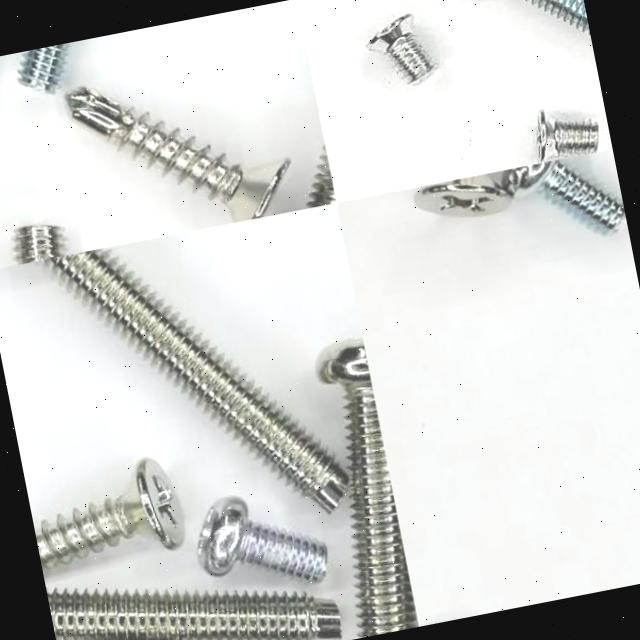Screw: (43, 250, 350, 513), (66, 87, 291, 223), (319, 345, 415, 638), (34, 459, 184, 571), (47, 591, 343, 640), (198, 497, 330, 582), (503, 160, 626, 234), (366, 13, 438, 84), (415, 173, 513, 215), (538, 109, 598, 164), (19, 44, 65, 93), (529, 0, 590, 32)
